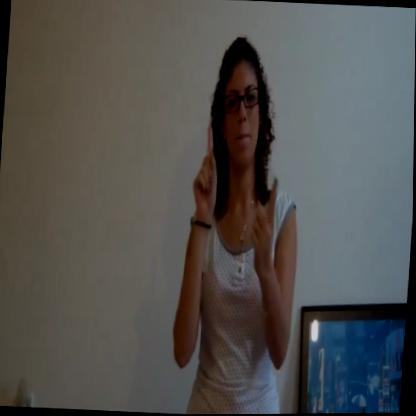NiceToMeetYou: (184, 117, 295, 285)
